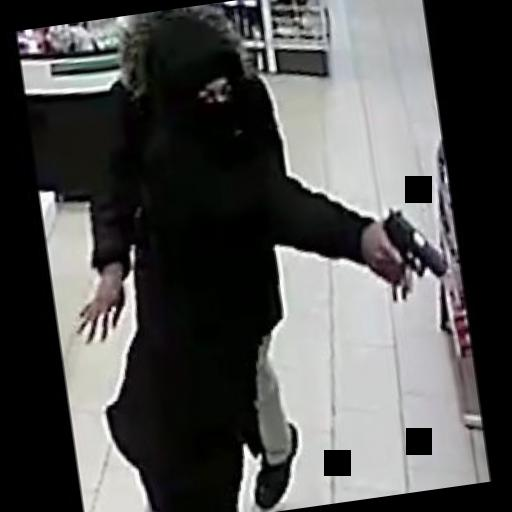Handgun: (364, 201, 448, 290)
